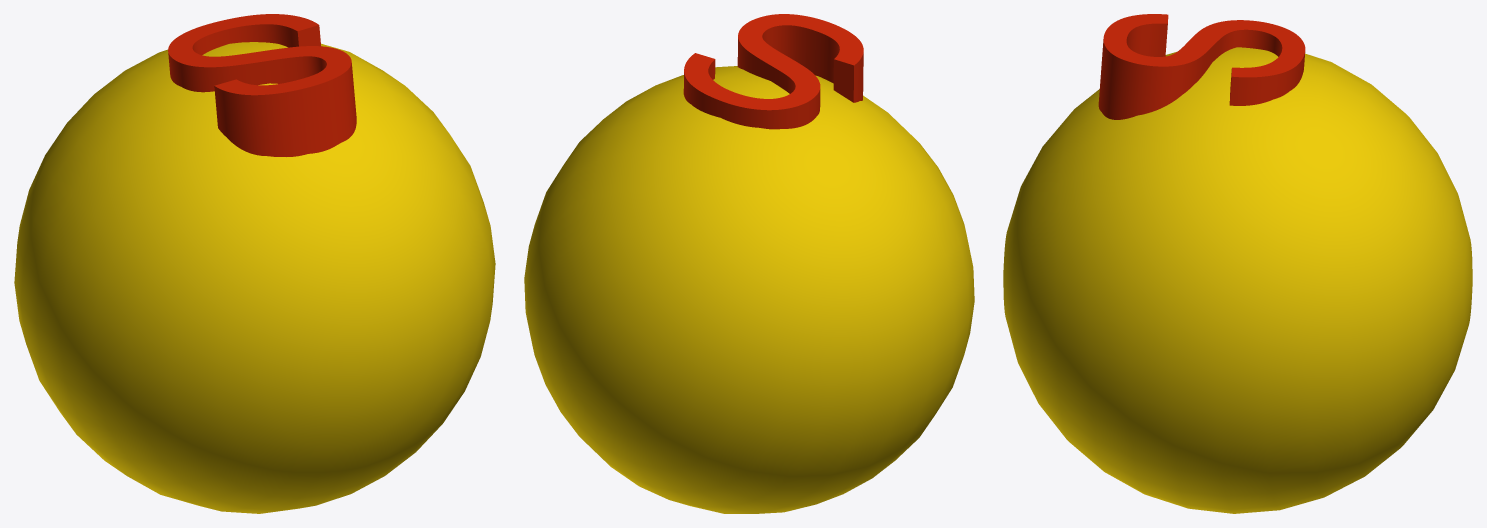
The picture shows the model from 3 angles, left to right: view 1: azimuth 30°, elevation 25°; view 2: azimuth 150°, elevation 25°; view 3: azimuth 270°, elevation 25°; orthographic projection. The views are drawn at different scales.
Parts seen in each view (by area): view 1: S; view 2: S; view 3: S.
Boxes of the visible parts, x1=… form: S: x1=14, y1=14, x2=495, y2=513; S: x1=524, y1=14, x2=974, y2=513; S: x1=1003, y1=14, x2=1472, y2=513.
Bounding box in the file's own units: 38.56 × 40.79 × 38.58.
